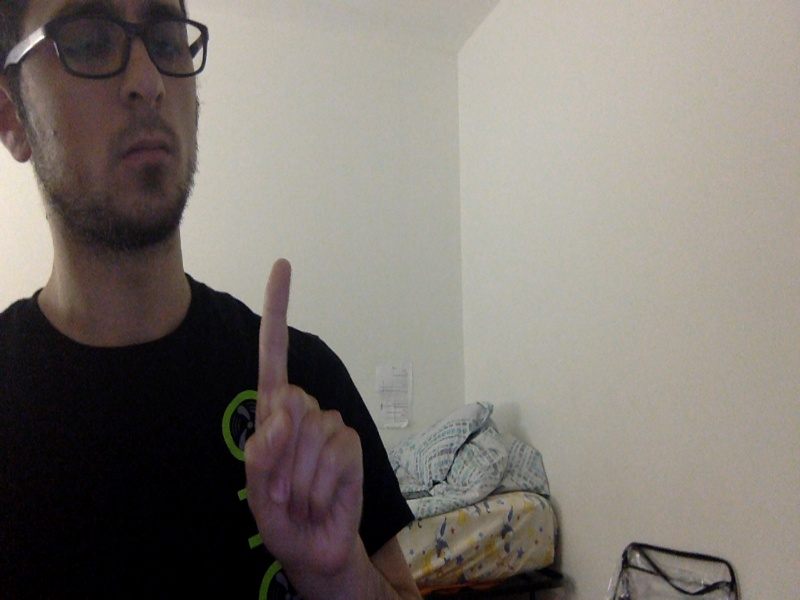1-hand: (245, 258, 366, 571)
